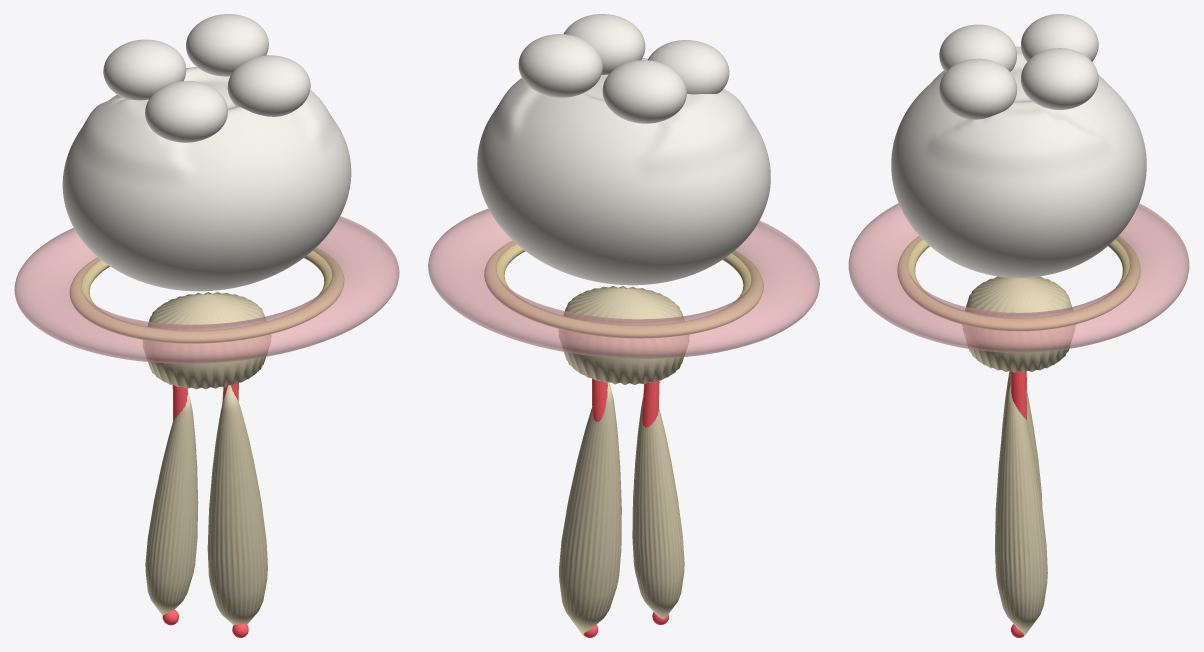
The model's file is tooth.glb.
3 views of the same model, side by side, from view 1: azimuth 30°, elevation 25°; view 2: azimuth 150°, elevation 25°; view 3: azimuth 270°, elevation 25° (orthographic). The views are drawn at different scales.
Parts seen in each view (by area): view 1: Crown, Gingiva, Root_Mesial, Root_Trunk, Root_Distal, CEJ_Band, Cusp_4, Cusp_3, Cusp_1, Cusp_2; view 2: Crown, Gingiva, Root_Mesial, Root_Trunk, Root_Distal, CEJ_Band, Cusp_1, Cusp_2, Cusp_4, Cusp_3, Canal_Distal, Canal_Mesial; view 3: Crown, Gingiva, Root_Mesial, Root_Trunk, CEJ_Band, Cusp_1, Cusp_3, Cusp_2, Cusp_4, Canal_Mesial, Root_Distal.
Boxes of the visible parts, box(x1,y1,x2,y2) form: Crown: box(62, 67, 351, 291); Gingiva: box(14, 216, 399, 363); Root_Mesial: box(207, 385, 267, 624); Root_Trunk: box(142, 292, 271, 389); Root_Distal: box(145, 389, 198, 615); CEJ_Band: box(69, 247, 344, 343); Cusp_4: box(145, 81, 227, 142); Cusp_3: box(227, 55, 310, 116); Cusp_1: box(186, 14, 268, 76); Cusp_2: box(103, 39, 186, 100); Crown: box(477, 58, 770, 285); Gingiva: box(428, 208, 819, 358); Root_Mesial: box(559, 382, 621, 635); Root_Trunk: box(558, 286, 689, 384); Root_Distal: box(632, 397, 684, 618); CEJ_Band: box(484, 241, 763, 338); Cusp_1: box(518, 34, 602, 97); Cusp_2: box(602, 60, 686, 123); Cusp_4: box(648, 40, 729, 94); Cusp_3: box(564, 14, 645, 74); Canal_Distal: box(642, 380, 659, 427); Canal_Mesial: box(592, 378, 607, 422); Crown: box(891, 46, 1146, 277); Gingiva: box(848, 203, 1189, 352); Root_Mesial: box(995, 385, 1047, 636); Root_Trunk: box(962, 276, 1075, 372); CEJ_Band: box(897, 236, 1140, 331); Cusp_1: box(1021, 48, 1098, 109); Cusp_3: box(939, 58, 1016, 119); Cusp_2: box(1021, 14, 1098, 61); Cusp_4: box(939, 24, 1016, 72); Canal_Mesial: box(1011, 371, 1026, 419); Root_Distal: box(1001, 371, 1042, 504).
Bounding box in the file's own units: 1.33 × 2.23 × 1.17.
